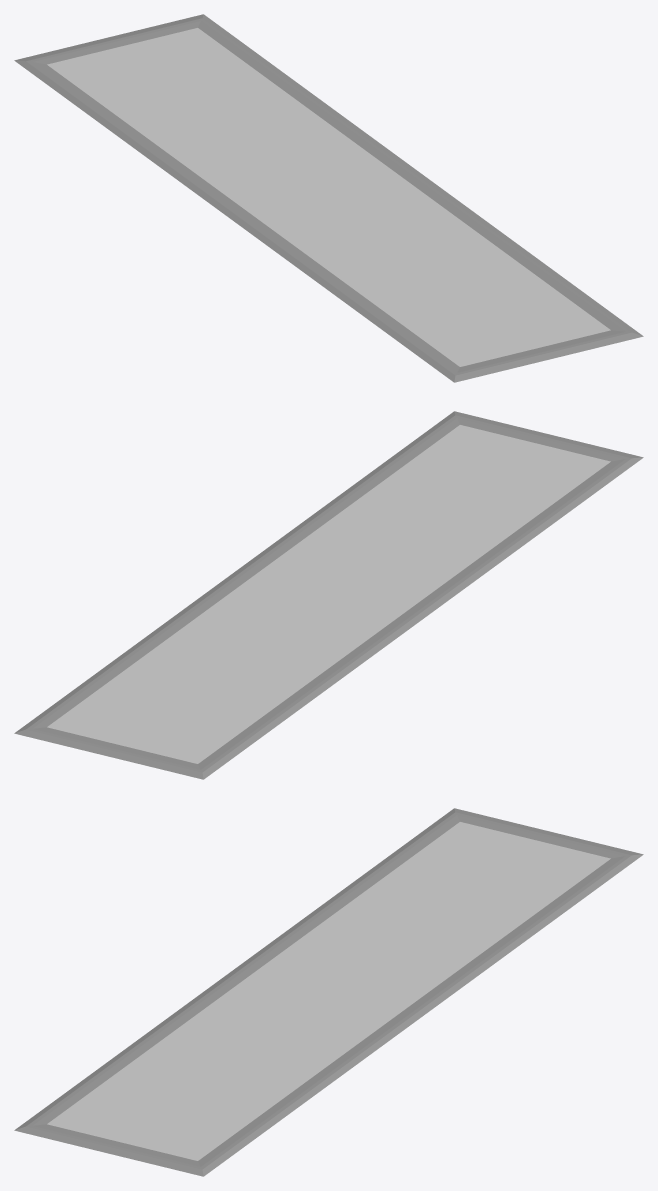
The model's file is GrassMainAlley.fbx.
The picture shows the model from 3 angles, top to bottom: view 1: azimuth 30°, elevation 25°; view 2: azimuth 150°, elevation 25°; view 3: azimuth 330°, elevation 25°; orthographic projection.
Visible parts, largest first — view 1: GrassMainAlley.001, GrassMainAlley.004, GrassMainAlley.002, GrassMainAlley.003, GrassMainAlley; view 2: GrassMainAlley.001, GrassMainAlley.004, GrassMainAlley.002, GrassMainAlley, GrassMainAlley.003; view 3: GrassMainAlley.001, GrassMainAlley.002, GrassMainAlley.004, GrassMainAlley.003, GrassMainAlley.
Boxes of the visible parts, left/top/right/bottom form: GrassMainAlley.001: left=47, top=28, right=610, bottom=366; GrassMainAlley.004: left=14, top=60, right=459, bottom=382; GrassMainAlley.002: left=198, top=14, right=642, bottom=335; GrassMainAlley.003: left=454, top=330, right=643, bottom=382; GrassMainAlley: left=15, top=14, right=203, bottom=64; GrassMainAlley.001: left=47, top=425, right=610, bottom=763; GrassMainAlley.004: left=198, top=457, right=643, bottom=779; GrassMainAlley.002: left=15, top=411, right=459, bottom=732; GrassMainAlley: left=14, top=727, right=203, bottom=779; GrassMainAlley.003: left=454, top=411, right=642, bottom=461; GrassMainAlley.001: left=47, top=822, right=610, bottom=1160; GrassMainAlley.002: left=198, top=854, right=643, bottom=1176; GrassMainAlley.004: left=15, top=808, right=459, bottom=1129; GrassMainAlley.003: left=14, top=1124, right=203, bottom=1176; GrassMainAlley: left=454, top=808, right=642, bottom=858.
Size of the model in its own units: 180 by 725 by 1.46.
